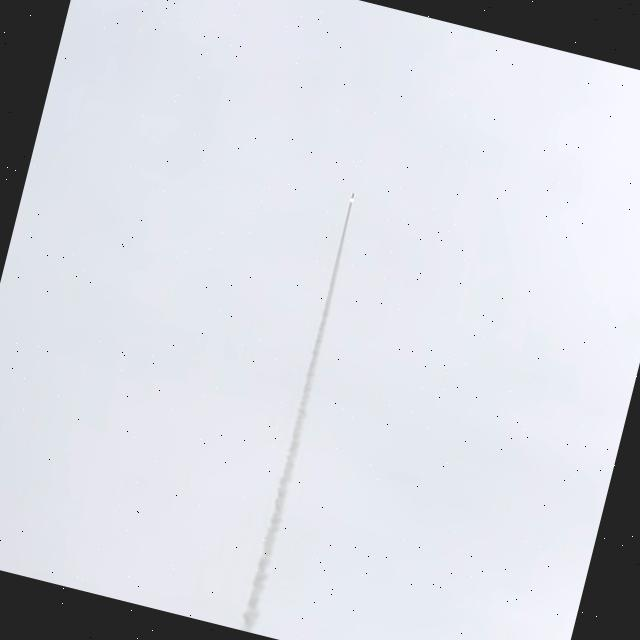smoke_trail_with_rocket: (238, 194, 352, 633)
